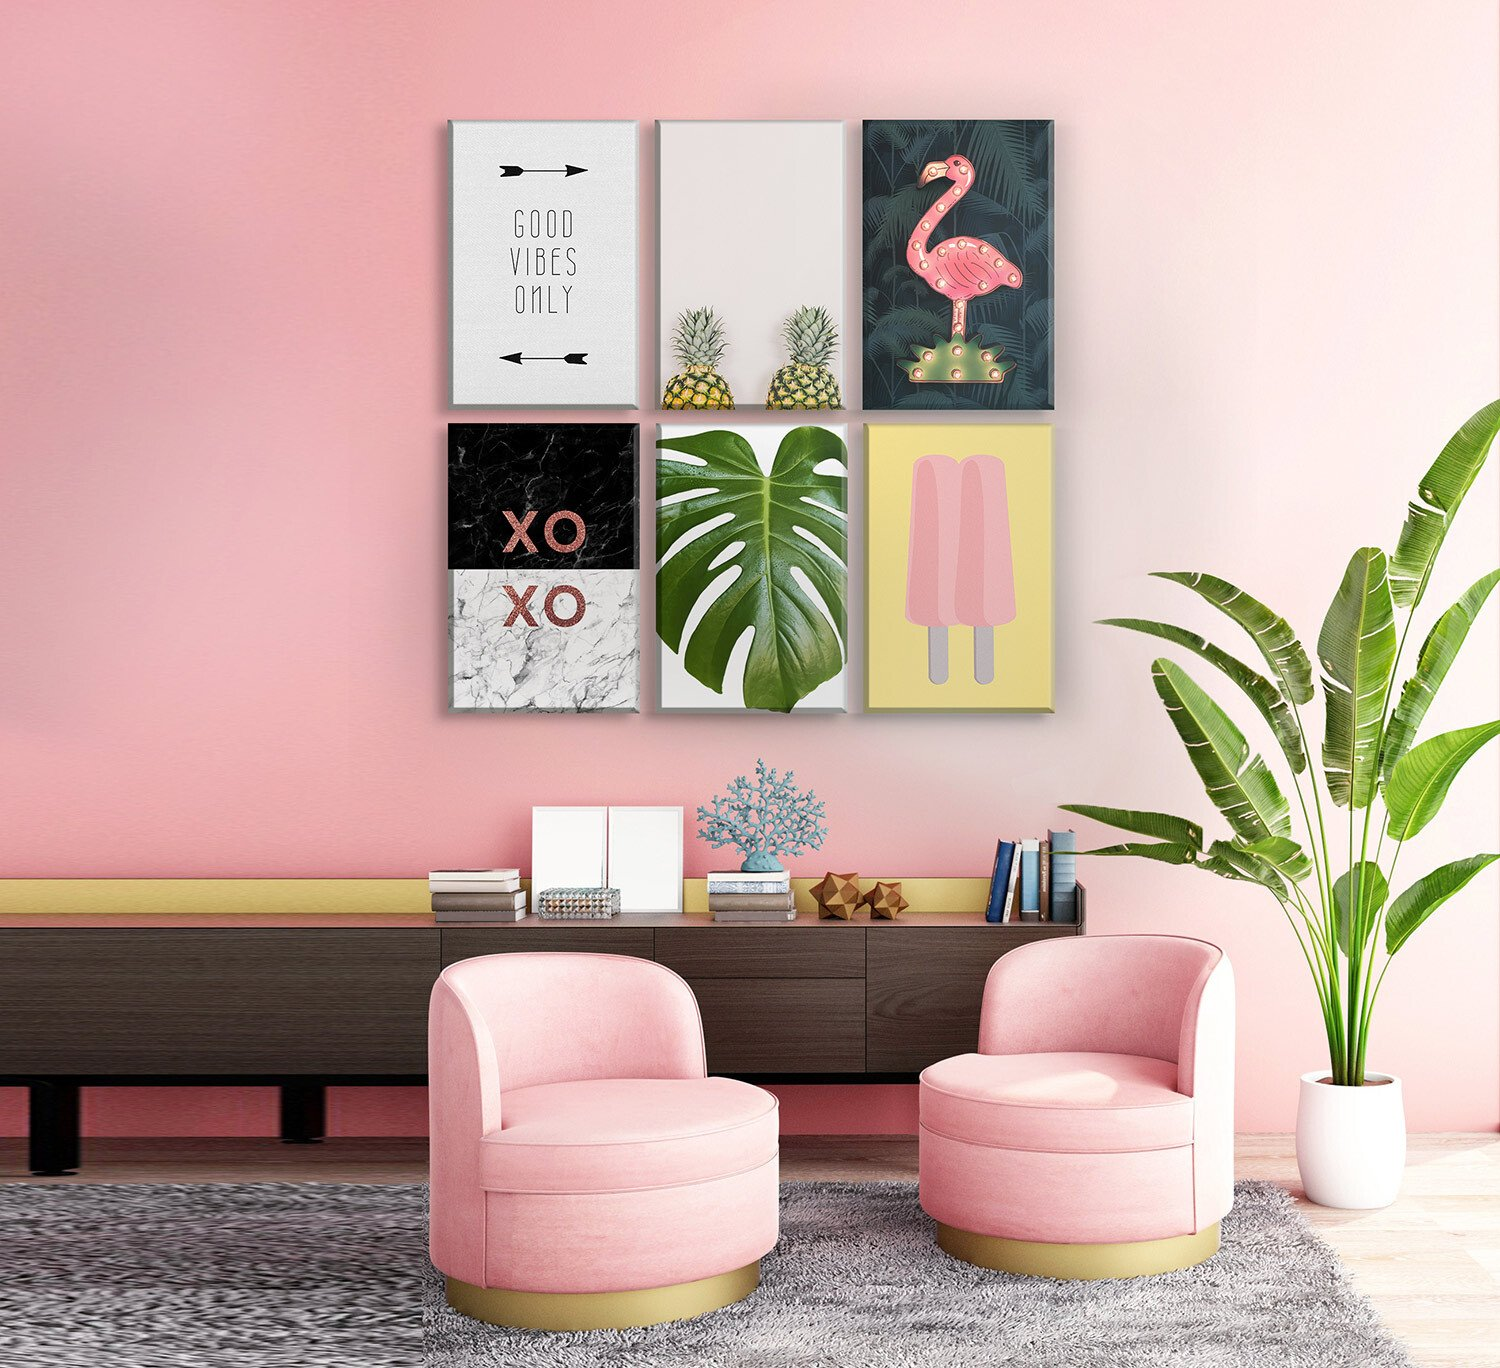coklat: (807, 871, 912, 919)
pink: (434, 954, 770, 1290), (904, 932, 1239, 1266)
putih: (1290, 1071, 1412, 1214)
